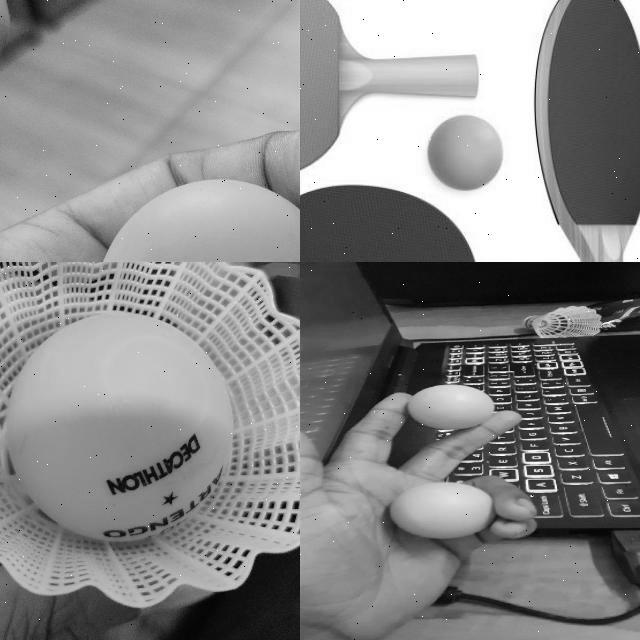ping-pong-ball: (8, 310, 232, 542), (96, 178, 299, 261), (390, 483, 494, 539), (428, 115, 502, 188), (407, 384, 490, 428)
